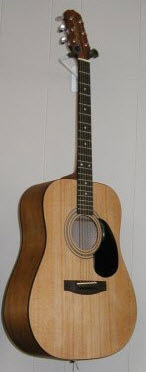guitar: (1, 8, 140, 362)
